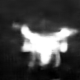plane: (10, 20, 78, 68)
